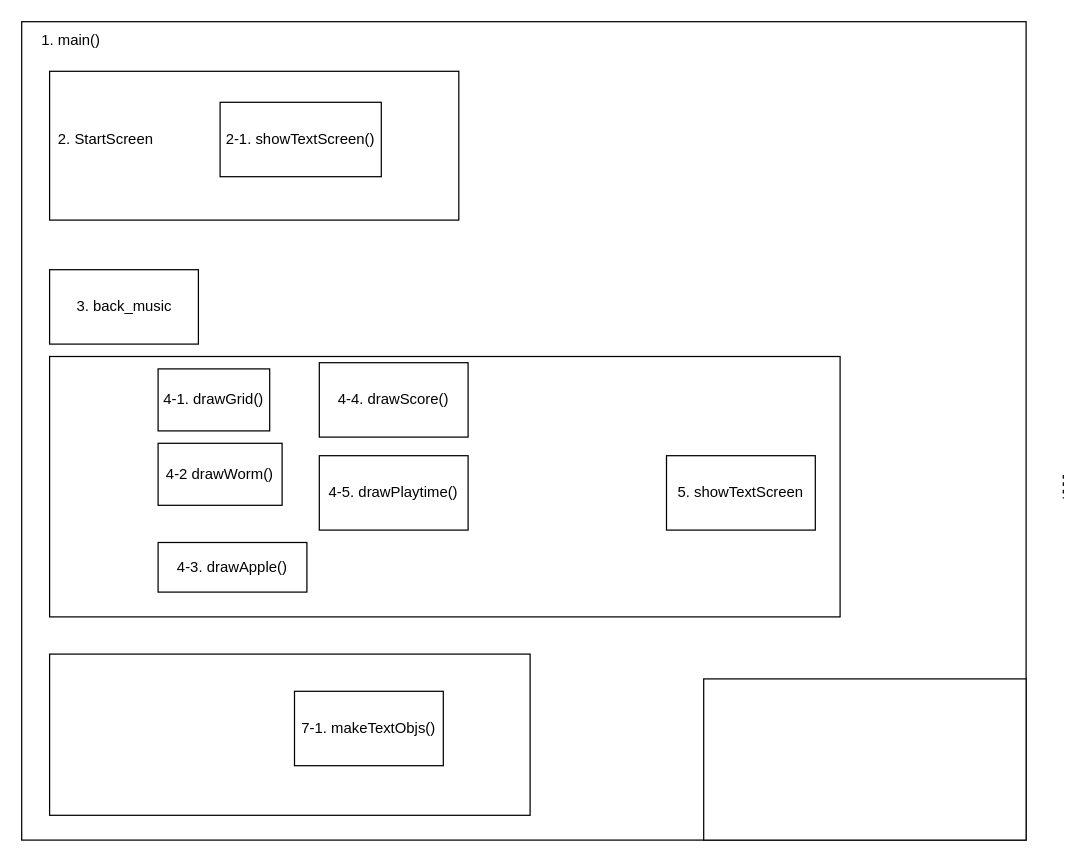
This 1086x862 diagram has some shape labels left out. The box of each missing label's shape, as (x1, y1, x2, y2) in pixels:
4. runGame(): (48, 355, 840, 617)
7. showGameOverScreen(): (48, 653, 530, 815)
8. terminate(): (702, 678, 1026, 840)
